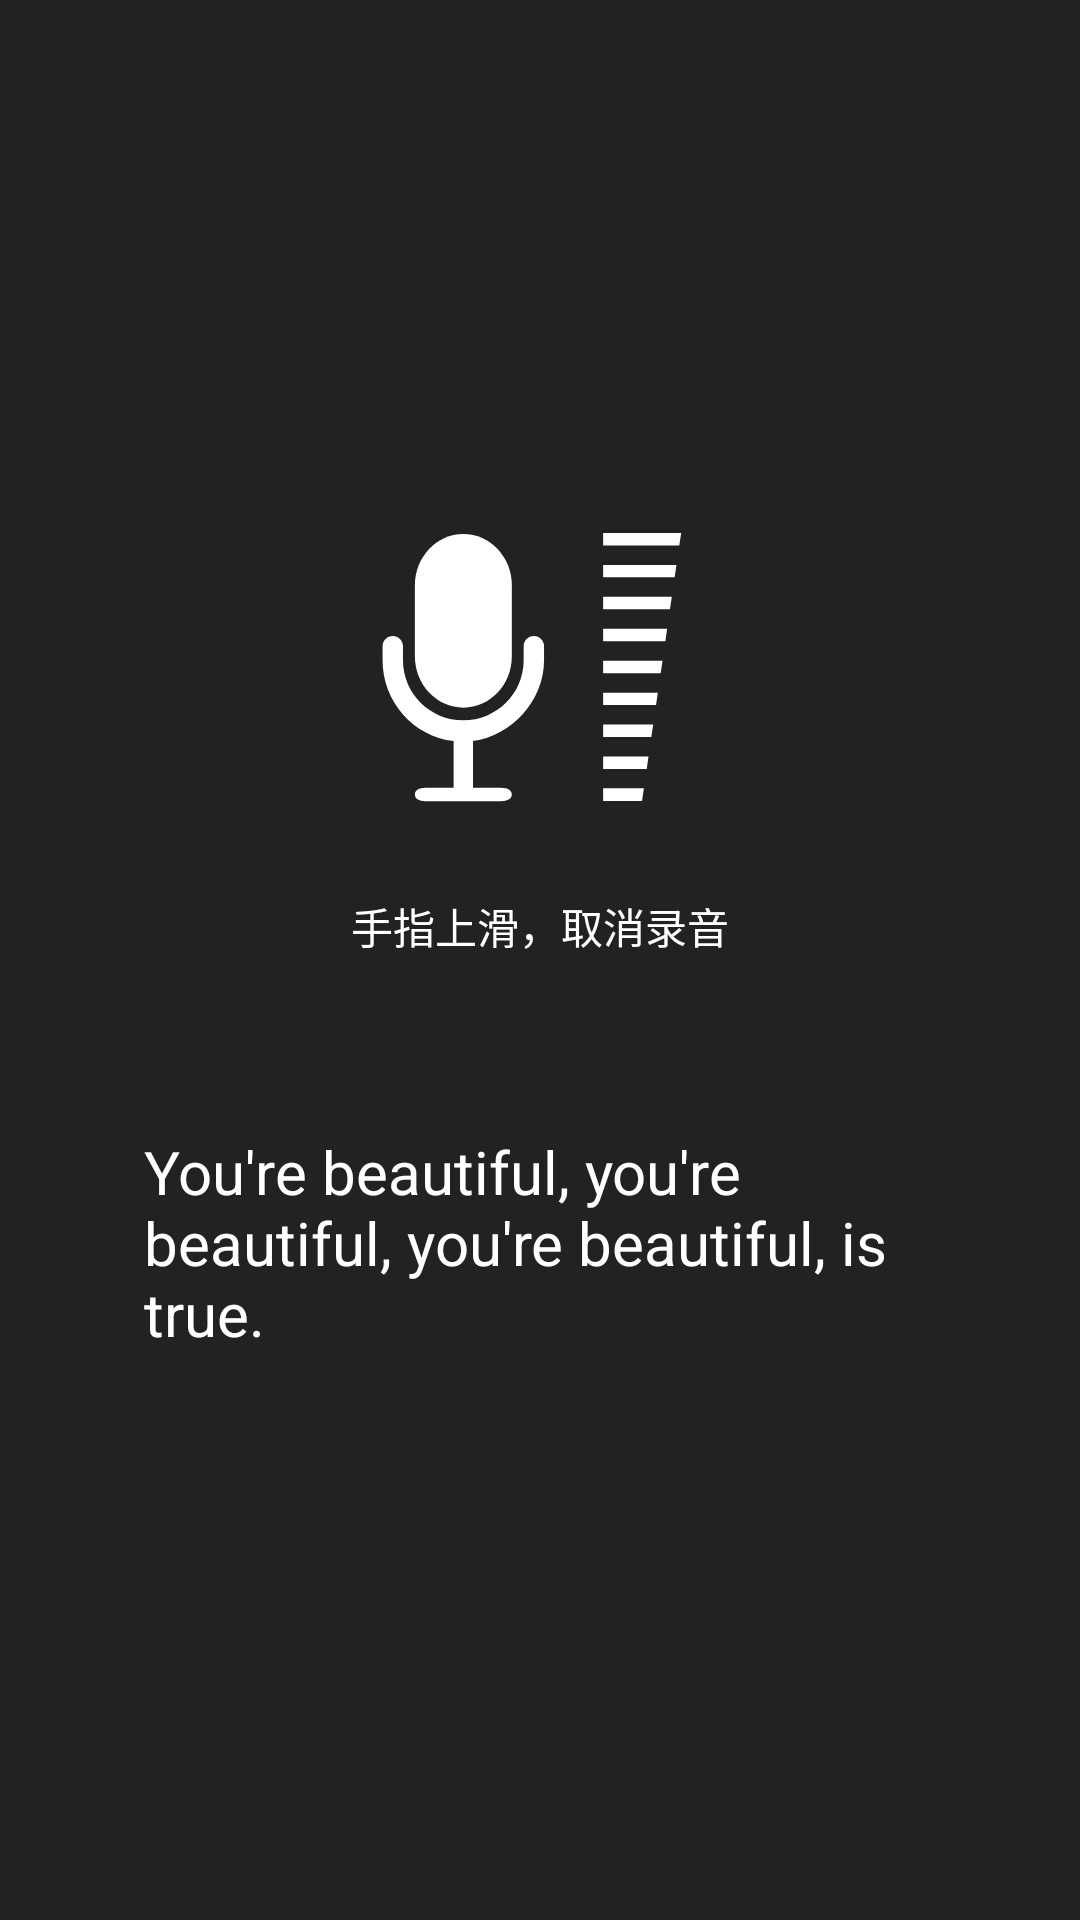

Icons on this 1080 × 1920 Android screen, each with its box as bbox=[x1, y1, x2, y2]:
recording: bbox=[382, 534, 544, 802]
volume: bbox=[603, 533, 681, 801]
